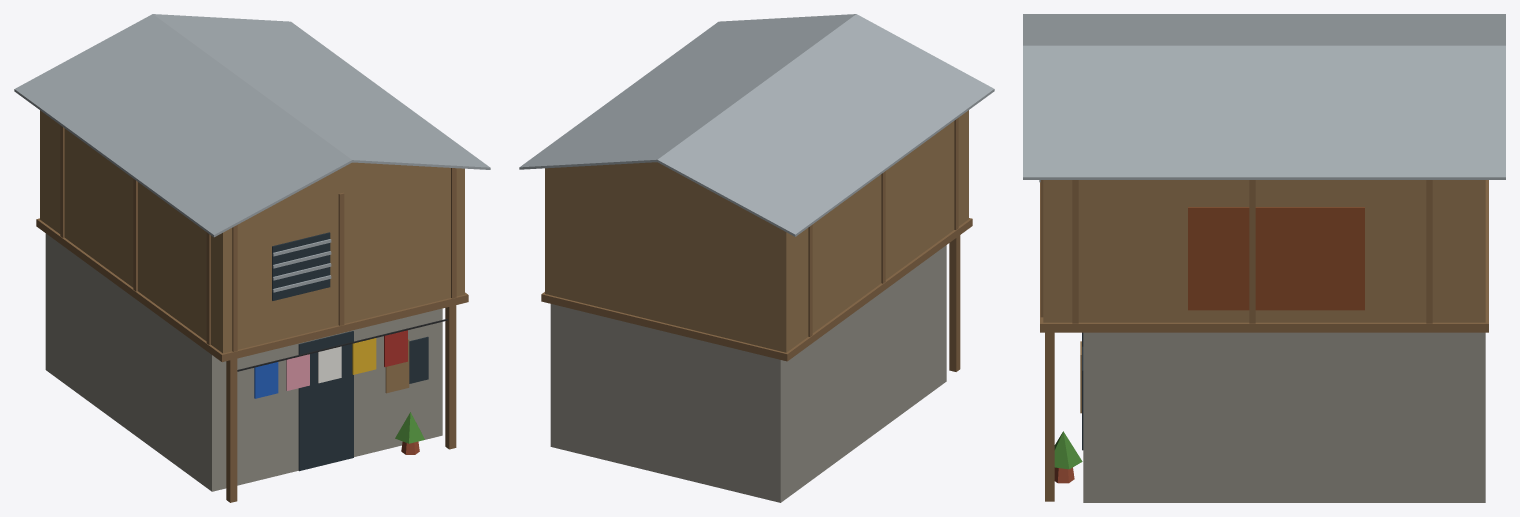
The model's file is BAY_I_Shanty2F_K.glb.
3 views of the same model, side by side, from view 1: azimuth 30°, elevation 25°; view 2: azimuth 150°, elevation 25°; view 3: azimuth 270°, elevation 25° (orthographic). The views are drawn at different scales.
Parts seen in each view (by area): view 1: BAY_I_Shanty2F_K; view 2: BAY_I_Shanty2F_K; view 3: BAY_I_Shanty2F_K.
Boxes of the visible parts, x1,y1,x2,y2 form: BAY_I_Shanty2F_K: (14,14,490,502); BAY_I_Shanty2F_K: (519,14,994,502); BAY_I_Shanty2F_K: (1023,14,1505,502).
Size of the model in its own units: 4.8 by 5.34 by 6.
1 material, 1 textured.
